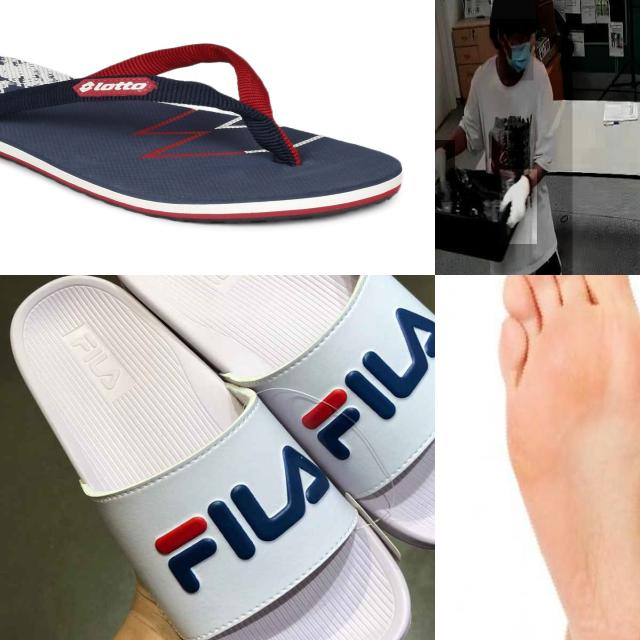Barefoots: (435, 275, 640, 640)
Sandals: (0, 275, 435, 640), (0, 38, 405, 227)
face_mask: (499, 28, 533, 80)
hand_glove: (499, 169, 537, 244), (435, 140, 455, 202)
head_nohelmet: (491, 0, 536, 19)
person: (435, 0, 572, 275)
